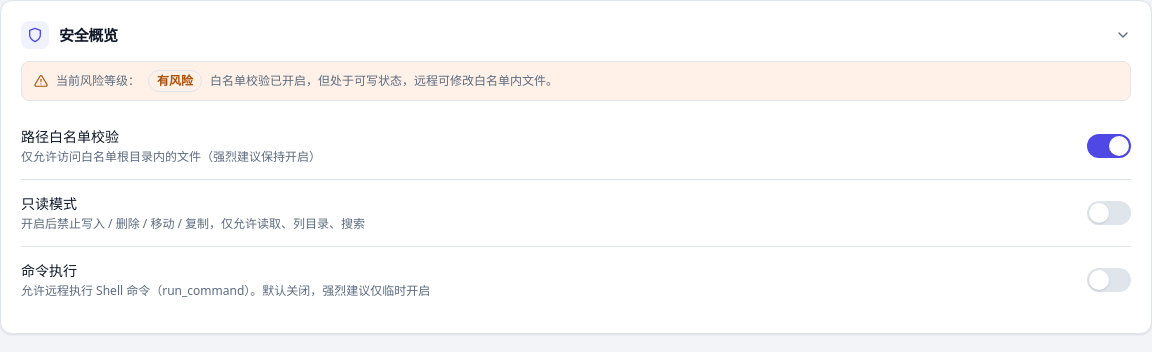
保存失败保留真实开关和行内错误，可再次操作重试
Click the switch named "只读模式" at (1109,213), box [1087,201,1131,225]
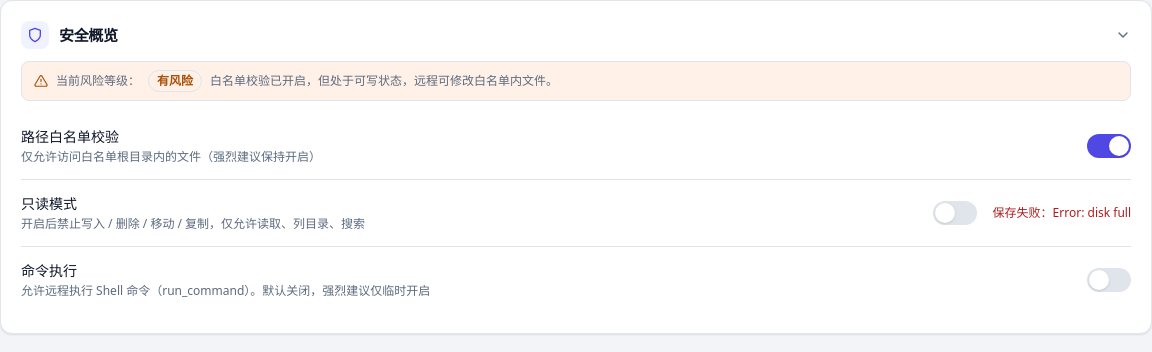
Expected: the message "保存失败：Error: disk full" is shown, [993,205,1131,221]
Click the switch named "只读模式" at (955,213), box [933,201,977,225]
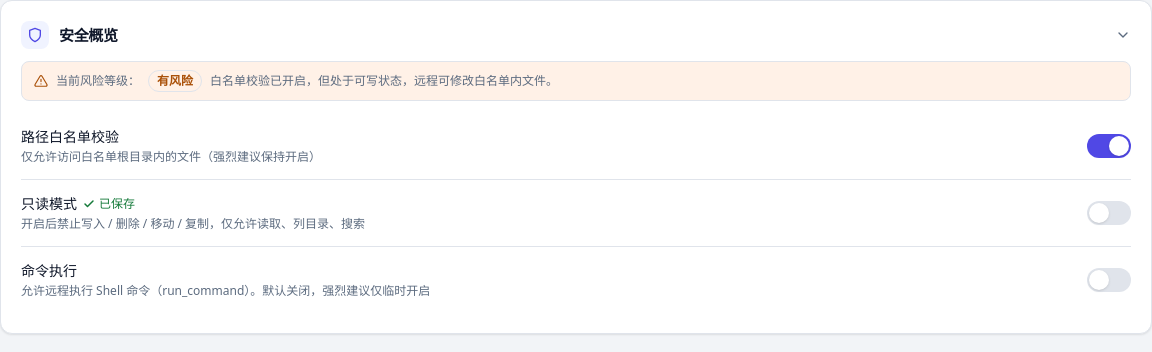
Expected: the message "保存失败：Error: disk full" is gone
